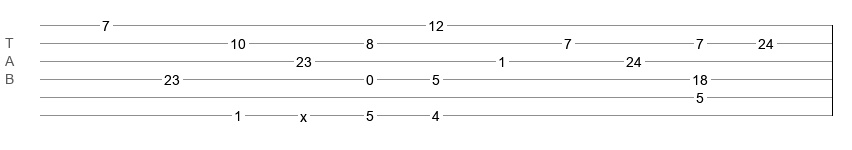0: (366, 72, 374, 82)
1: (234, 108, 242, 118), (498, 54, 506, 64)
10: (230, 36, 246, 46)
12: (428, 18, 444, 28)
18: (692, 72, 708, 82)
23: (164, 72, 180, 82), (296, 54, 312, 64)
24: (626, 54, 642, 64), (758, 36, 774, 46)
4: (432, 108, 440, 118)
5: (366, 108, 374, 118), (432, 72, 440, 82), (696, 90, 704, 100)
7: (102, 18, 110, 28), (564, 36, 572, 46), (696, 36, 704, 46)
8: (366, 36, 374, 46)
x: (300, 109, 307, 117)
